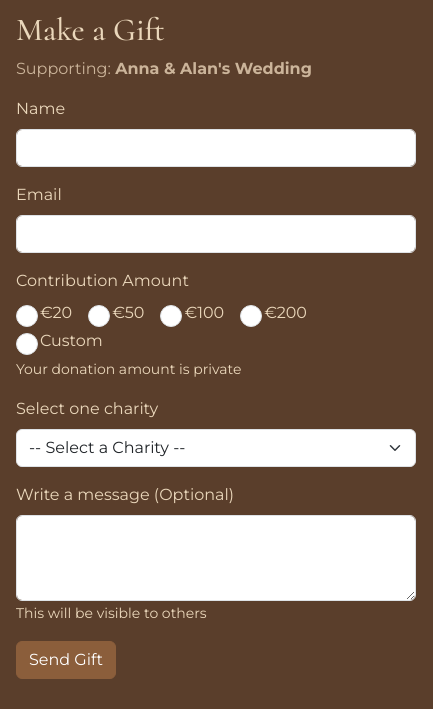
DonationForm (v2: Stripe Checkout) › shows the custom amount input when "Custom" is selected
The image size is (433, 709).
Click the radio button labelled "Custom" at [27, 344], box [16, 333, 38, 355]
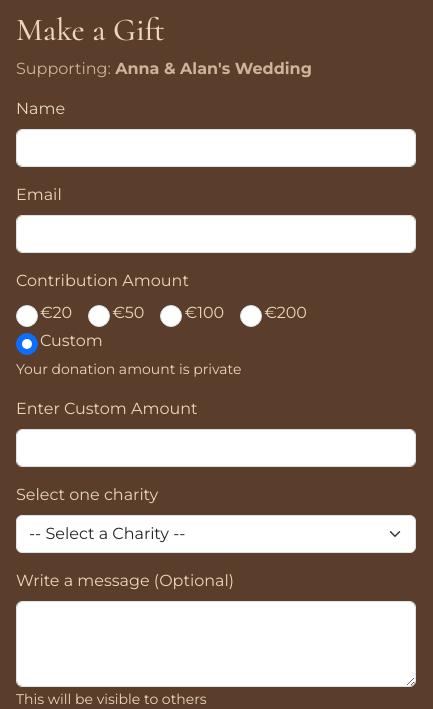
expect the number field labelled "Enter Custom Amount" is shown: met, box [16, 429, 416, 467]
